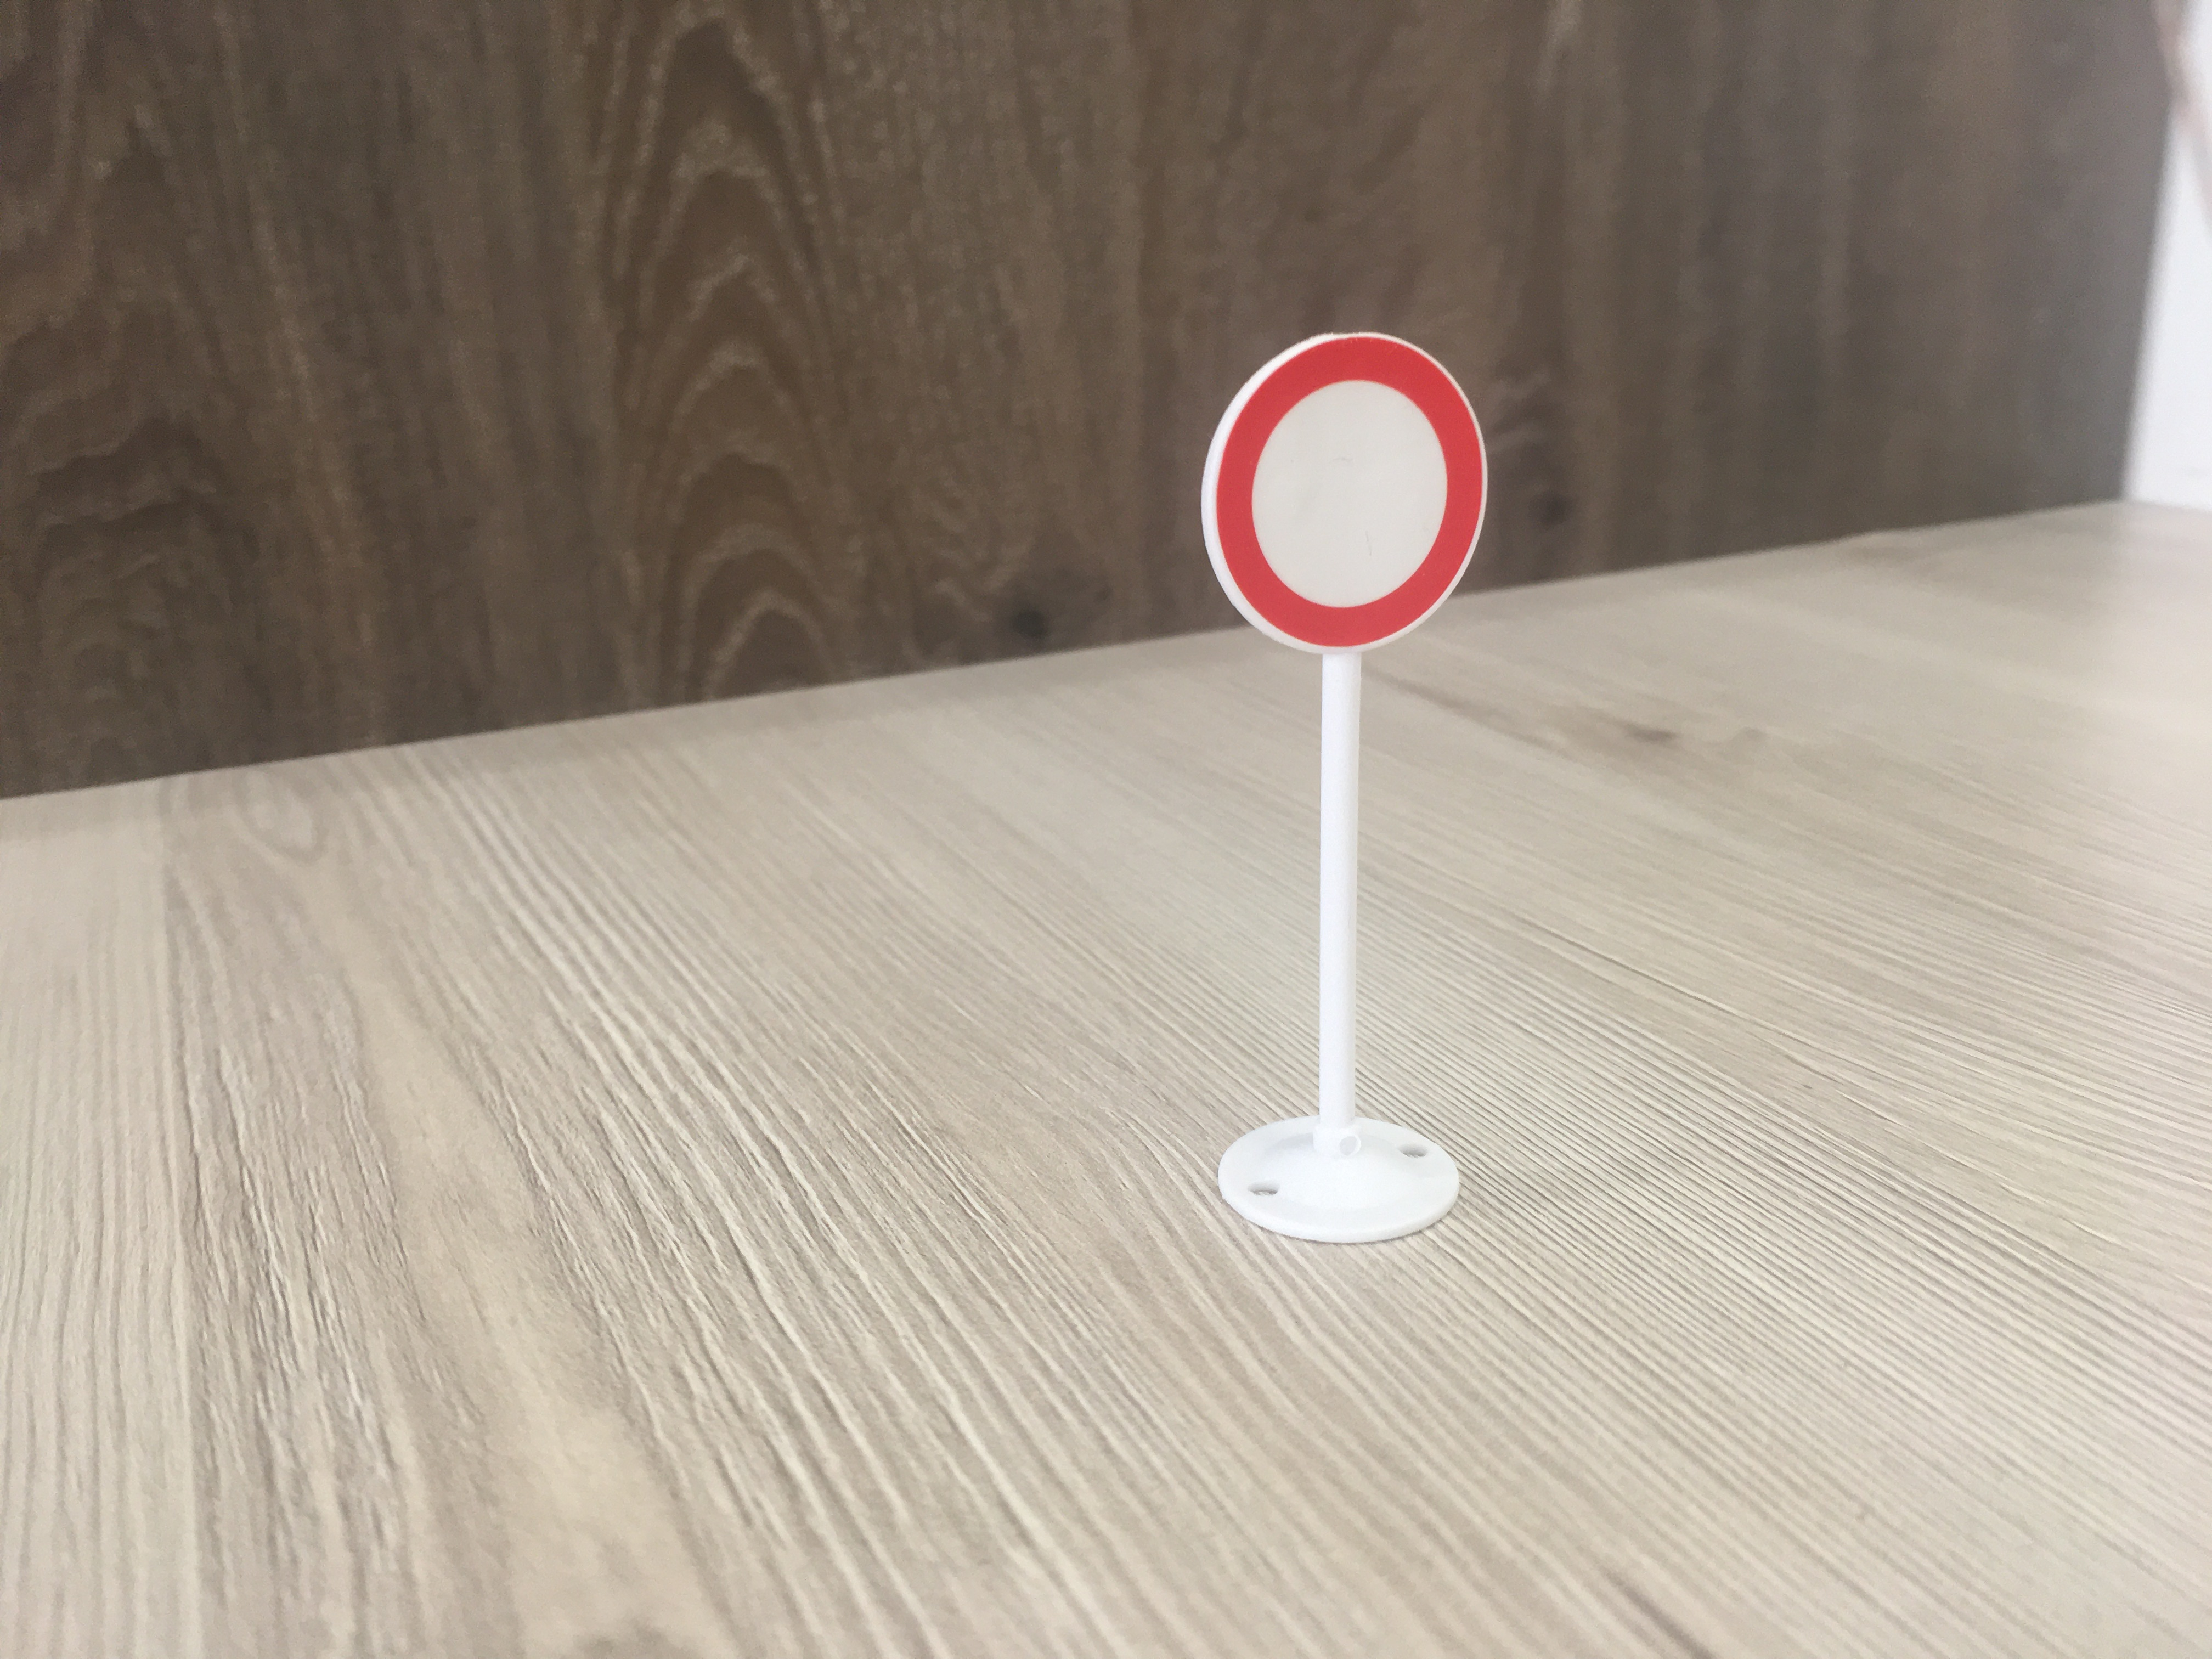noDrive: (1197, 329, 1493, 678)
